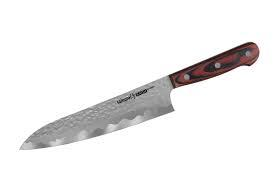Knife: (18, 40, 259, 150)
